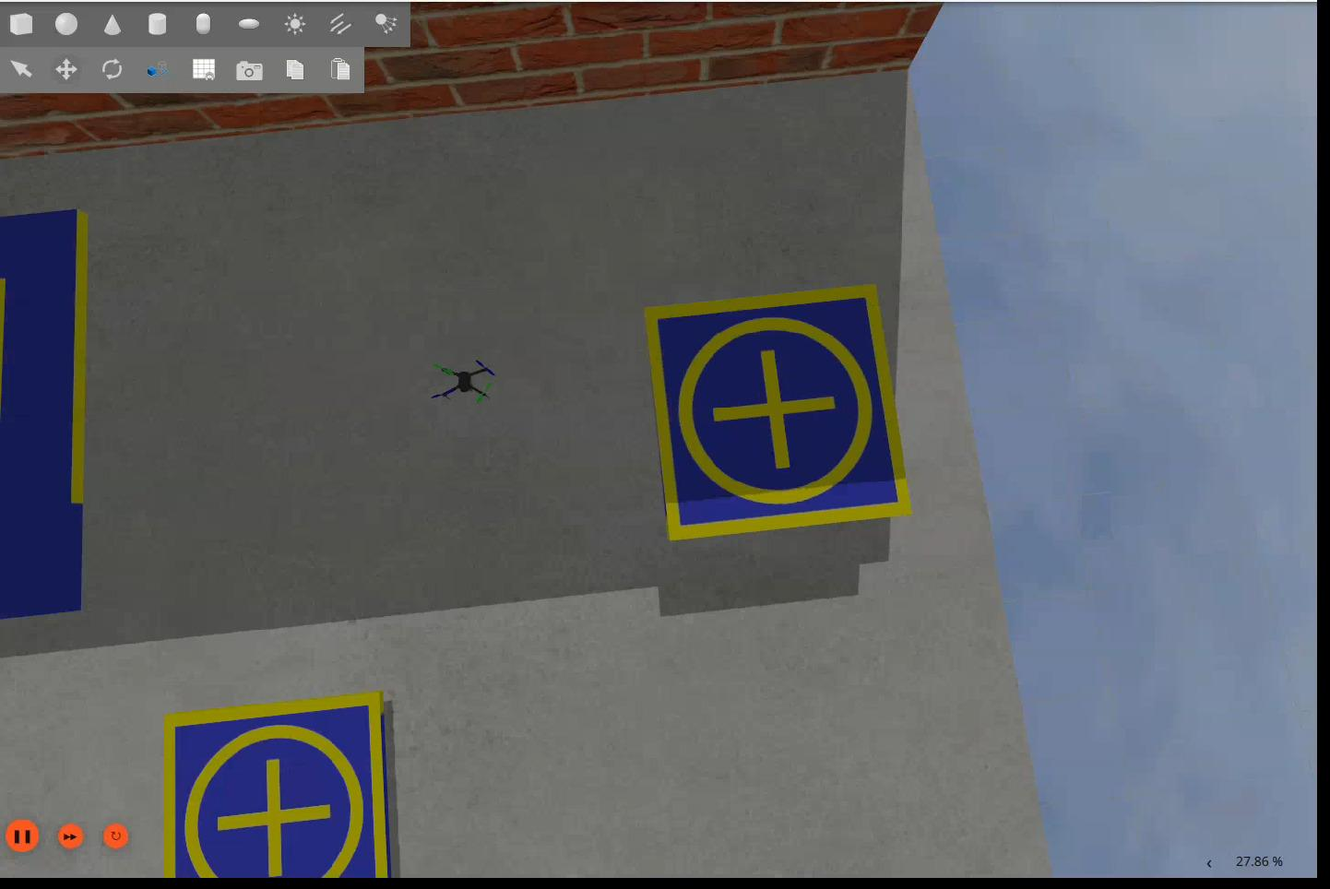large_base: (1, 209, 84, 616)
small_base: (647, 286, 914, 547), (163, 699, 396, 883)
